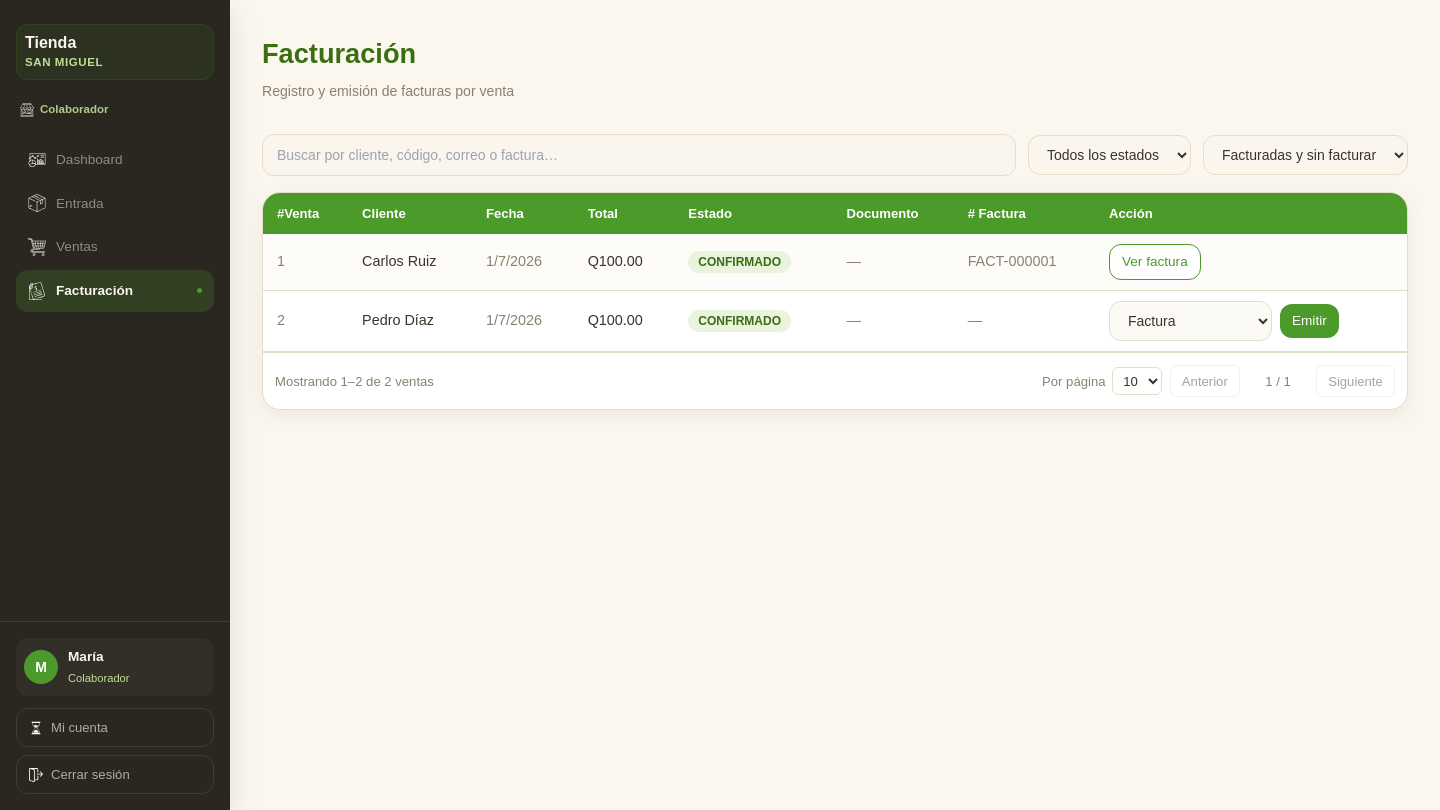
Test: FacturacionPage › filters rows by search query on client name or invoice number
Check: the text "Carlos Ruiz" is shown, box [348,234,472,290]
Type "pedro" into the search field named "Buscar en facturación" at {"x": 639, "y": 155}, box [262,134,1016,176]
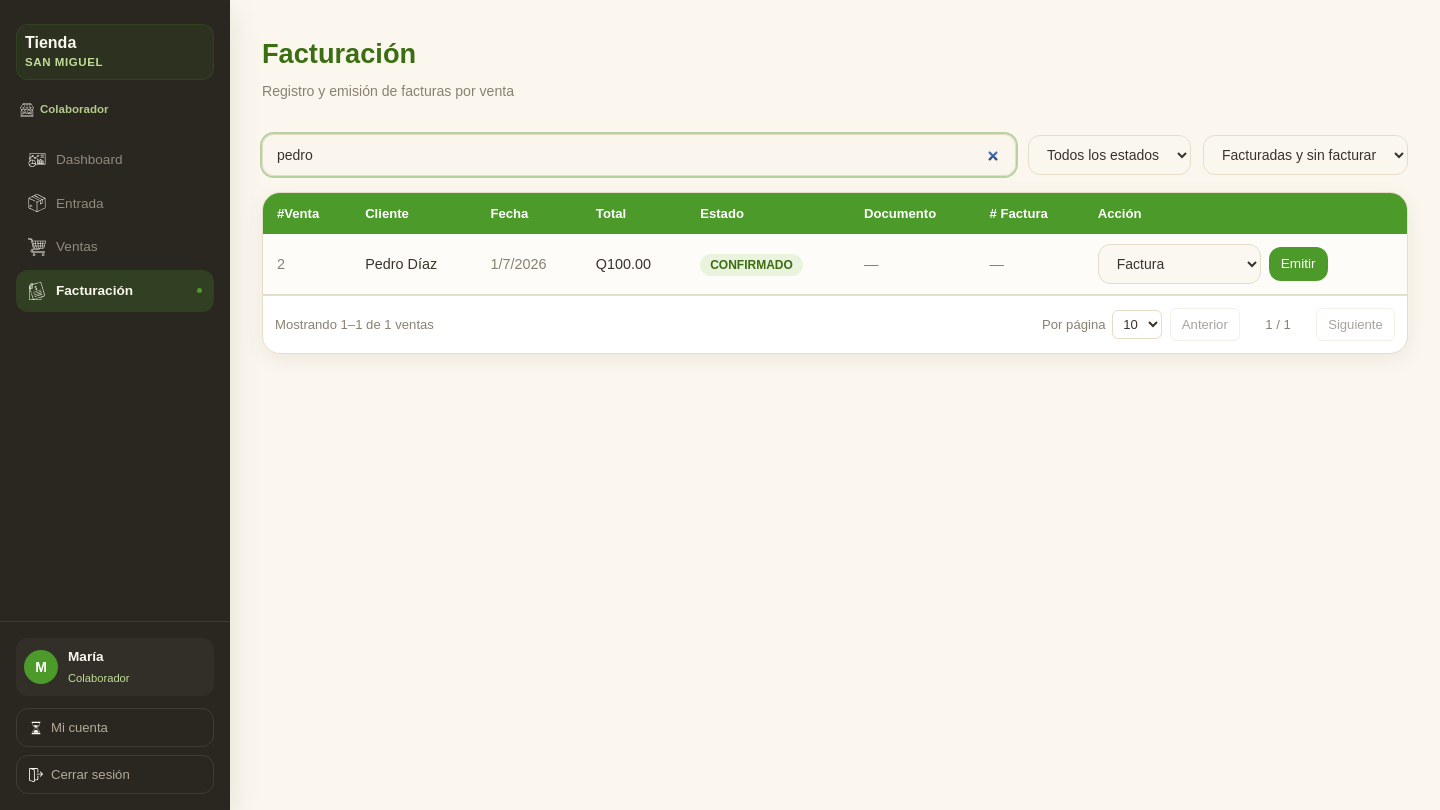
Check: the text "Pedro Díaz" is shown, box [351,234,476,294]
Check: the text "Carlos Ruiz" is gone
Replace the text in the search field named "Buscar en facturación" with "FACT-000001" at {"x": 639, "y": 155}, box [262,134,1016,176]
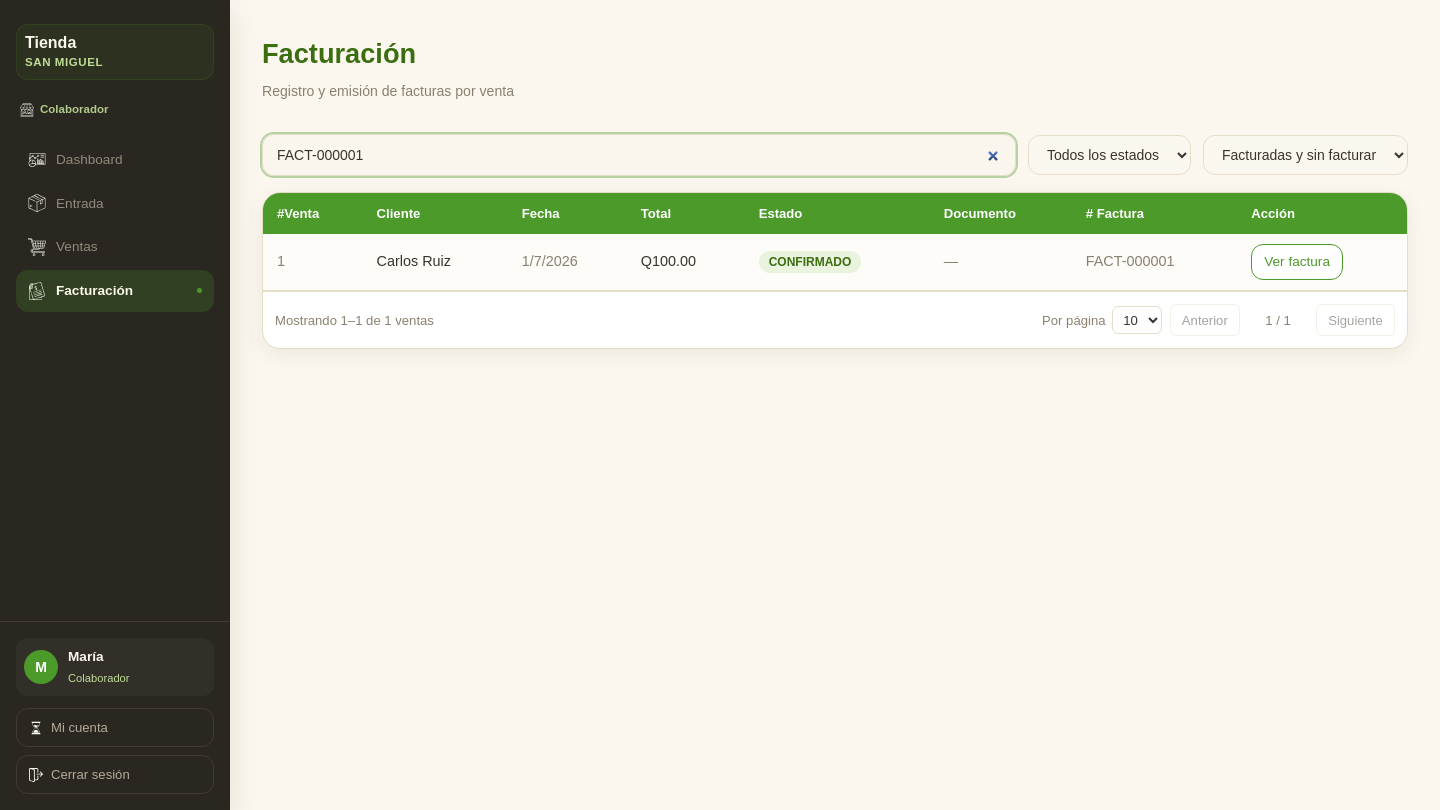
Check: the text "Carlos Ruiz" is shown, box [363,234,508,290]
Check: the text "Pedro Díaz" is gone
